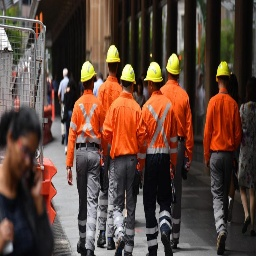helmet: (79, 59, 98, 85), (119, 63, 137, 90), (215, 61, 233, 86), (144, 62, 163, 85), (166, 53, 182, 80), (106, 47, 124, 67)
person: (106, 64, 144, 256), (67, 60, 104, 256), (203, 60, 240, 256), (139, 61, 174, 251)
vest: (141, 85, 175, 160), (205, 91, 240, 160), (164, 81, 194, 152), (110, 93, 139, 162), (71, 92, 102, 154)
